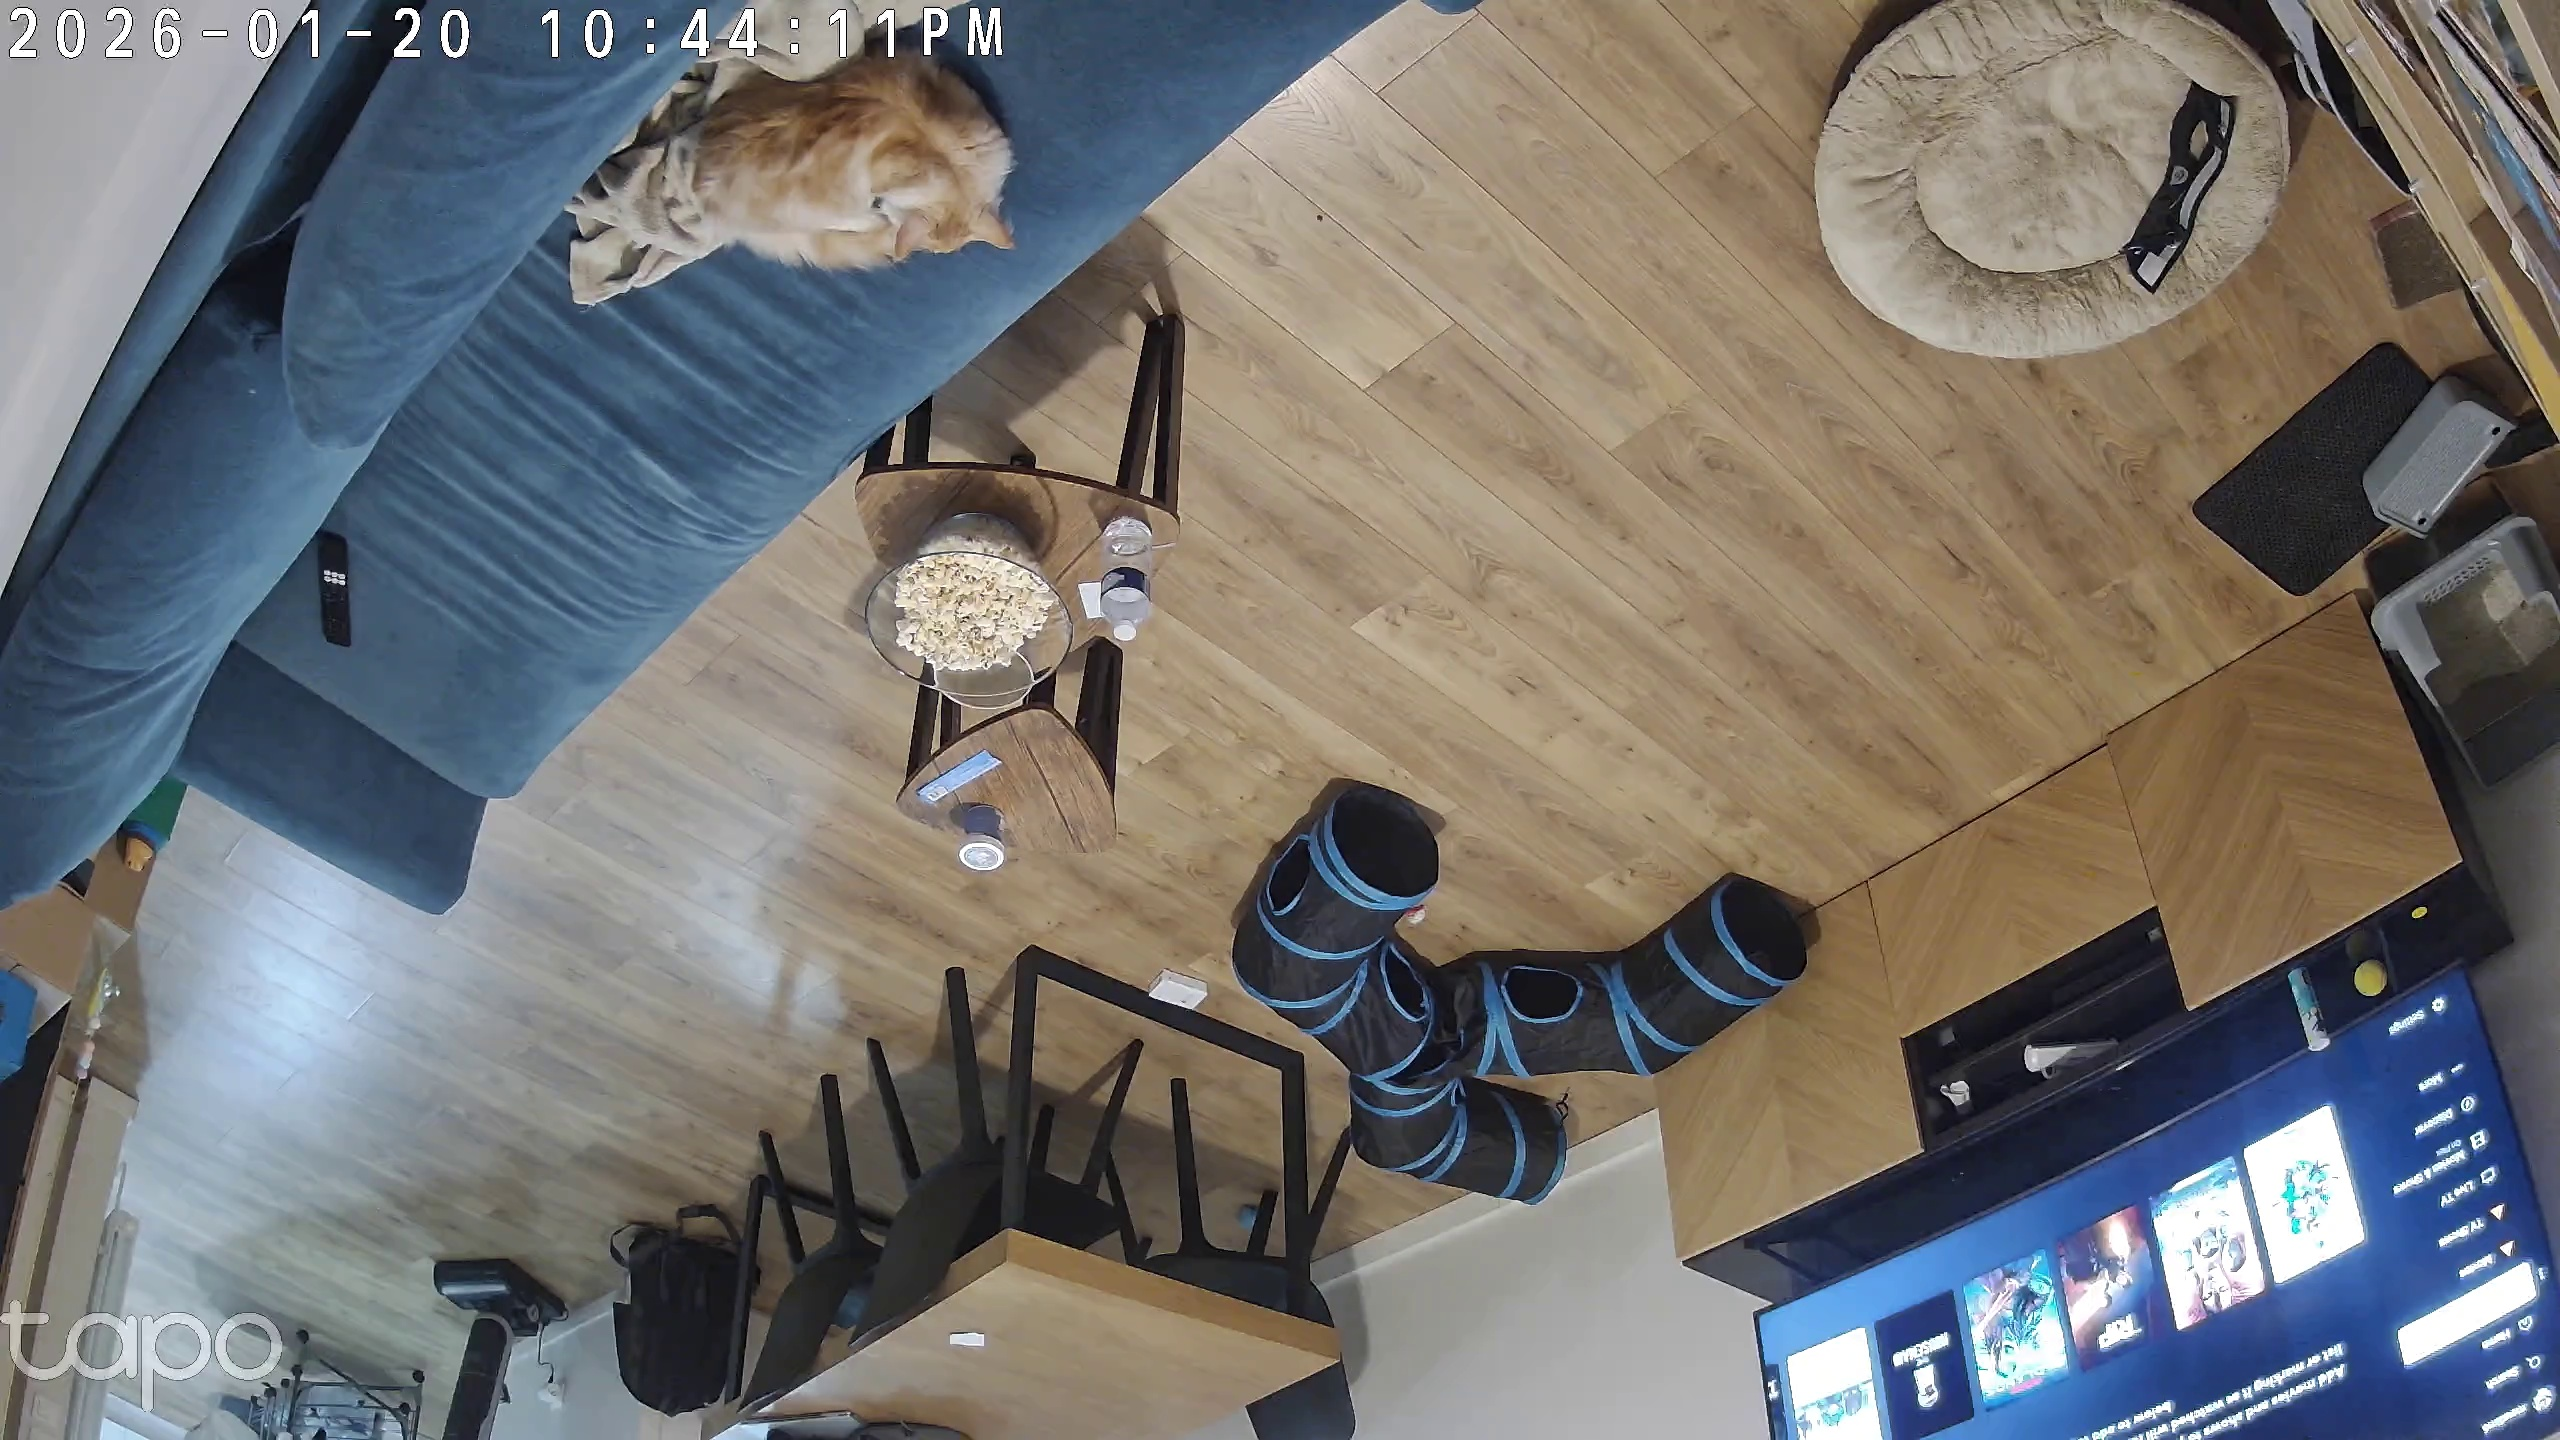Simba: (626, 26, 1029, 311)
